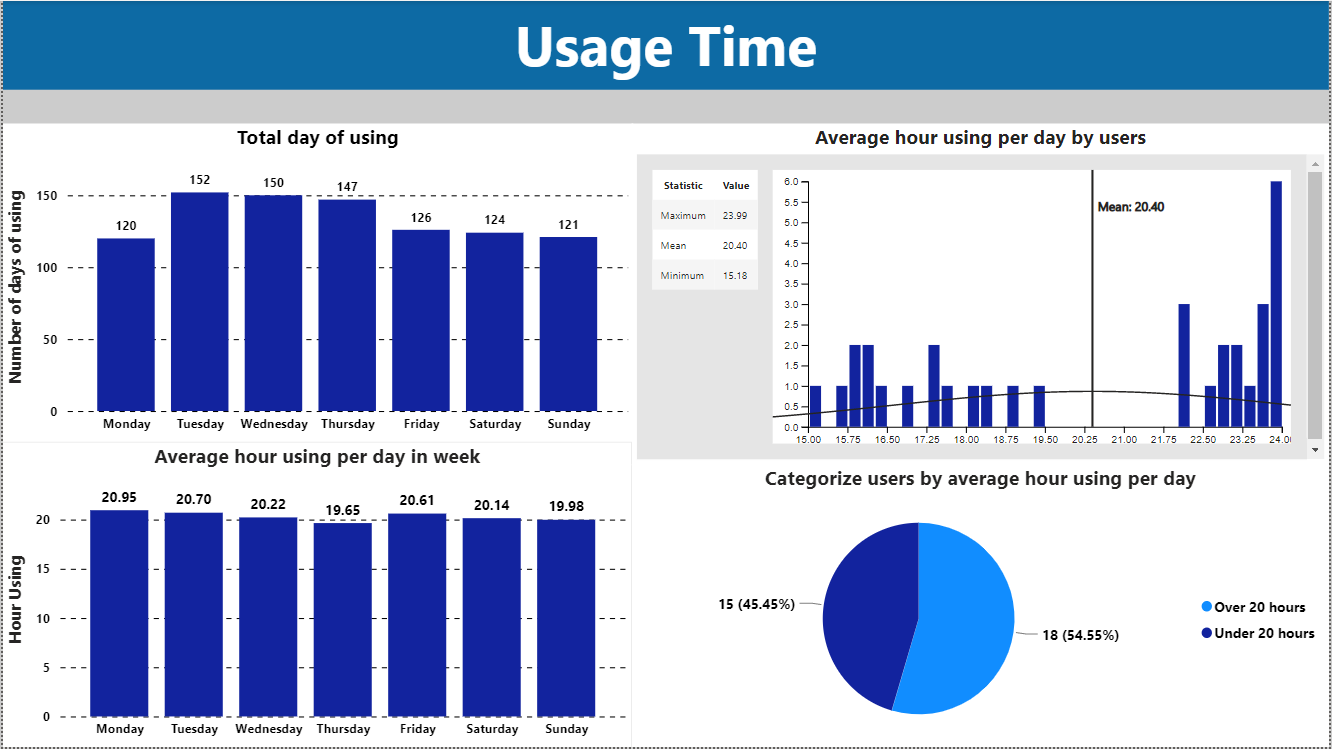

Layout of this report page (visuals, bound fields, positions):
{"tool":"powerbi","page":{"name":"Usage Time","canvas":[1280,720],"ordinal":0},"visuals":[{"type":"histogram42E8DF98F1244DB799B2A8A65DBCB226","title":"Average hour using per day by users","fields":{"axis":["daily_activity.Id"],"datavalues":["Avg(daily_activity.TotalHourUsing)"]},"box":[606.6,118.2,673,329.2],"z":0},{"type":"pieChart","title":"Categorize users by average hour using per day","fields":{"Category":["AvgHourUsingGroupById.HighOrLowUse"],"Y":["CountNonNull(GroupById.daily_activity_Id)"]},"box":[606.6,447.4,673,272.6],"z":1000},{"type":"clusteredColumnChart","title":"Total day of using","fields":{"Y":["CountNonNull(daily_activity.ActivityDate)"],"Category":["daily_activity.Day of Week Name"]},"box":[0,118.2,607.8,307.5],"z":2000},{"type":"clusteredColumnChart","title":"Average hour using per day in week","fields":{"Category":["daily_activity.Day of Week Name"],"Y":["Avg(daily_activity.TotalHourUsing)"]},"box":[0,425.7,606.6,294.3],"z":3000},{"type":"textbox","box":[0,0,1279.6,85.6],"z":4000}]}

Visuals, with their boxes in screenshot pixels (x1, y1, x2, y2), scaled from the page's 1280x720 canvas onto the 1332x749 screenshot:
"Average hour using per day by users" histogram42E8DF98F1244DB799B2A8A65DBCB226: region(631, 123, 1331, 465)
"Categorize users by average hour using per day" pieChart: region(631, 465, 1331, 748)
"Total day of using" clusteredColumnChart: region(0, 123, 632, 443)
"Average hour using per day in week" clusteredColumnChart: region(0, 443, 631, 748)
textbox: region(0, 0, 1331, 89)
